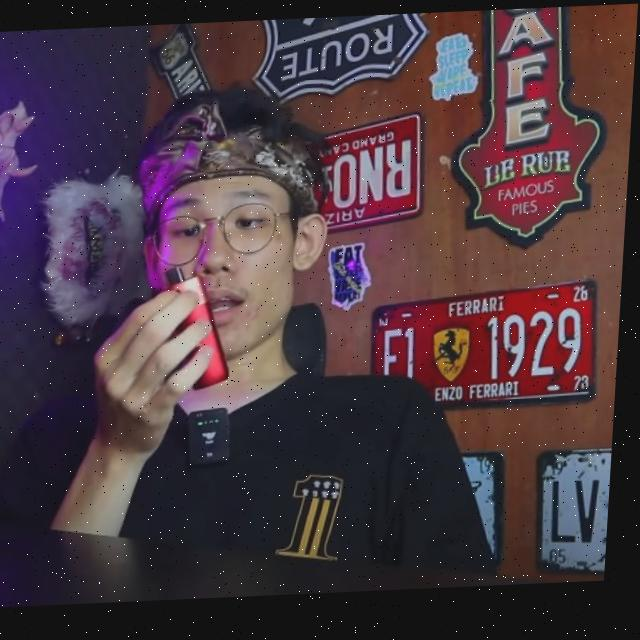vape: (160, 265, 240, 394)
